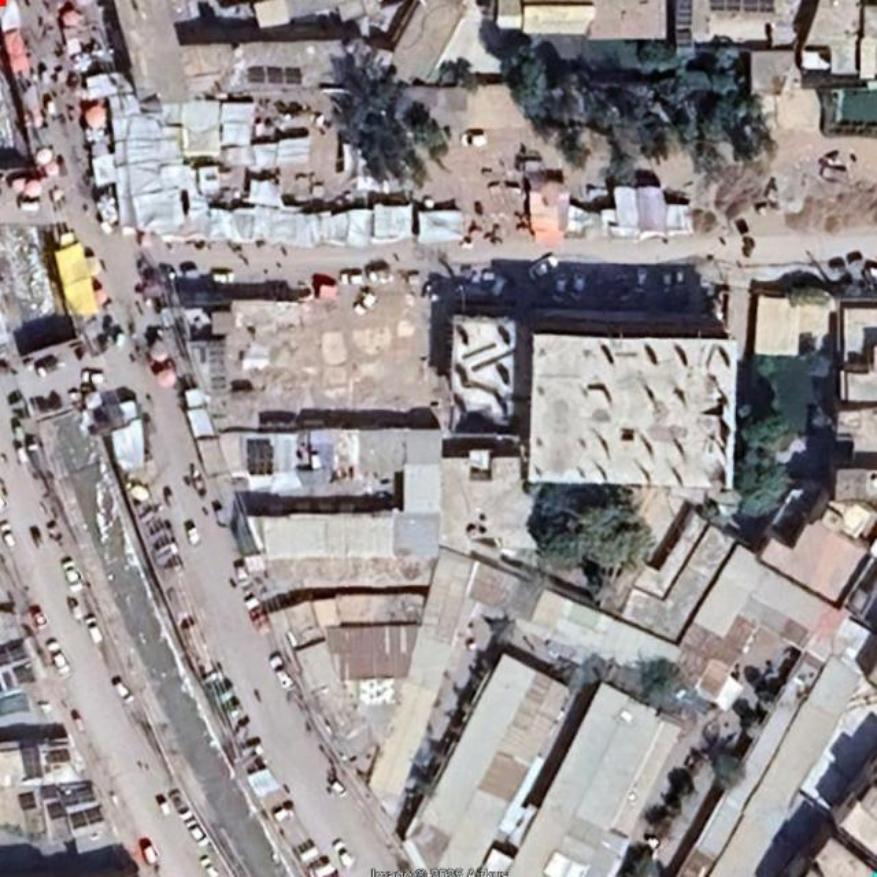Solarpanel: (703, 0, 780, 11)
